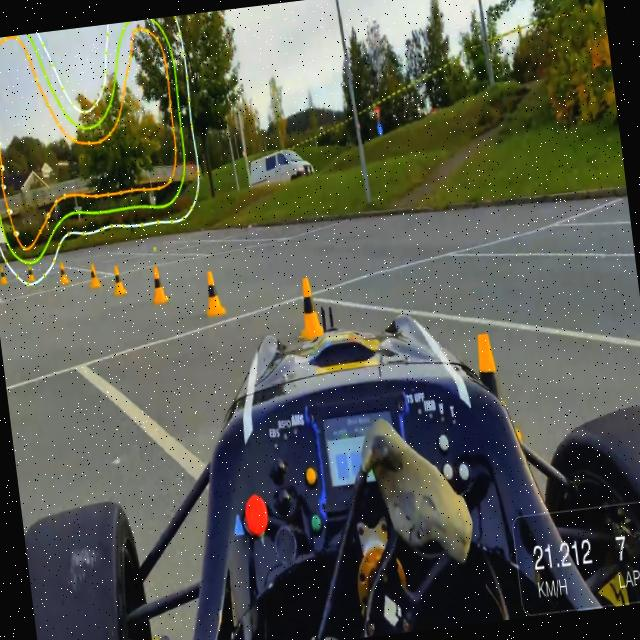yellow_cone: (462, 318, 526, 458), (286, 274, 330, 352), (192, 260, 235, 325), (150, 259, 170, 307), (110, 262, 126, 294), (54, 256, 70, 284), (87, 262, 98, 284)
